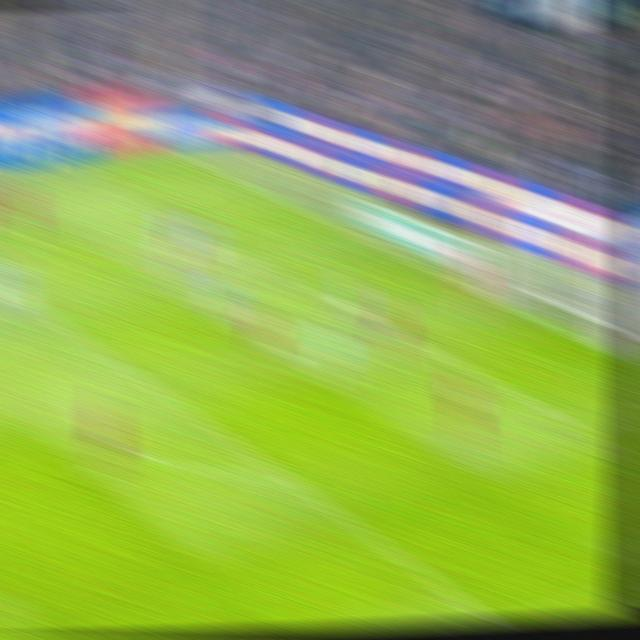bigarea_bottom_inner: (488, 614, 522, 624)
bigarea_top_outter: (284, 198, 314, 218)
bottom_arc_area_intersection: (268, 463, 301, 488)
corner: (160, 143, 191, 158)
smallarea_bottom_inner: (560, 408, 596, 443)
smallarea_top_inner: (305, 279, 336, 302)
smallarea_top_outter: (408, 255, 438, 276)
top_arc_area_intersection: (93, 343, 124, 366)
